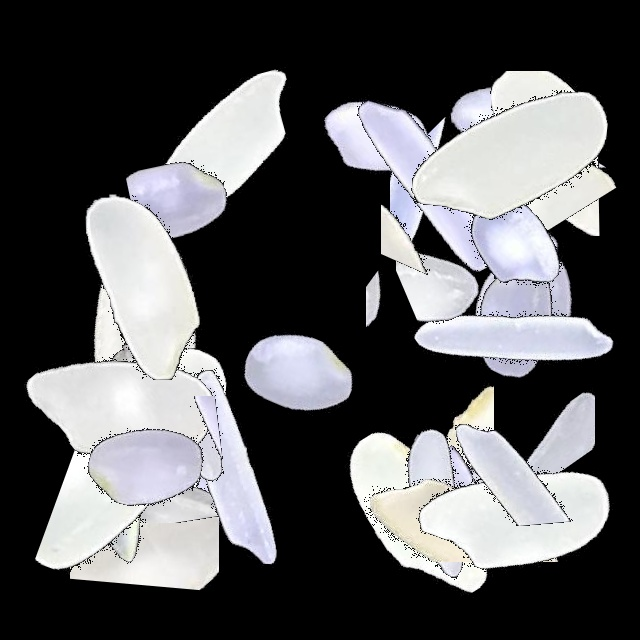Broken: (459, 194, 633, 444), (108, 341, 281, 591), (390, 71, 640, 236), (14, 429, 264, 591), (86, 112, 336, 274), (390, 375, 640, 526), (472, 218, 621, 468), (70, 385, 219, 635), (340, 414, 590, 562), (455, 286, 595, 536), (390, 75, 526, 325), (390, 123, 640, 257), (44, 391, 294, 523), (396, 134, 528, 384), (411, 390, 542, 640), (54, 379, 304, 501), (390, 117, 640, 239), (59, 417, 309, 539), (375, 331, 494, 581), (390, 133, 640, 241), (41, 396, 291, 504), (310, 466, 560, 557), (348, 138, 598, 229), (381, 100, 471, 350), (366, 176, 454, 426), (341, 390, 425, 640)
Full: (43, 373, 293, 623), (13, 390, 263, 640), (56, 374, 306, 624), (353, 377, 603, 627), (27, 211, 277, 461), (43, 318, 293, 568), (333, 390, 583, 640), (173, 248, 423, 498), (390, 191, 640, 441), (250, 11, 500, 261), (305, 56, 555, 306), (4, 341, 254, 591), (96, 18, 346, 268), (390, 215, 640, 465), (290, 390, 540, 640), (383, 0, 633, 250), (0, 269, 250, 519), (316, 375, 566, 625), (0, 278, 250, 528), (18, 343, 268, 593), (19, 163, 269, 413), (390, 390, 640, 640), (390, 118, 640, 368), (386, 29, 636, 279)
